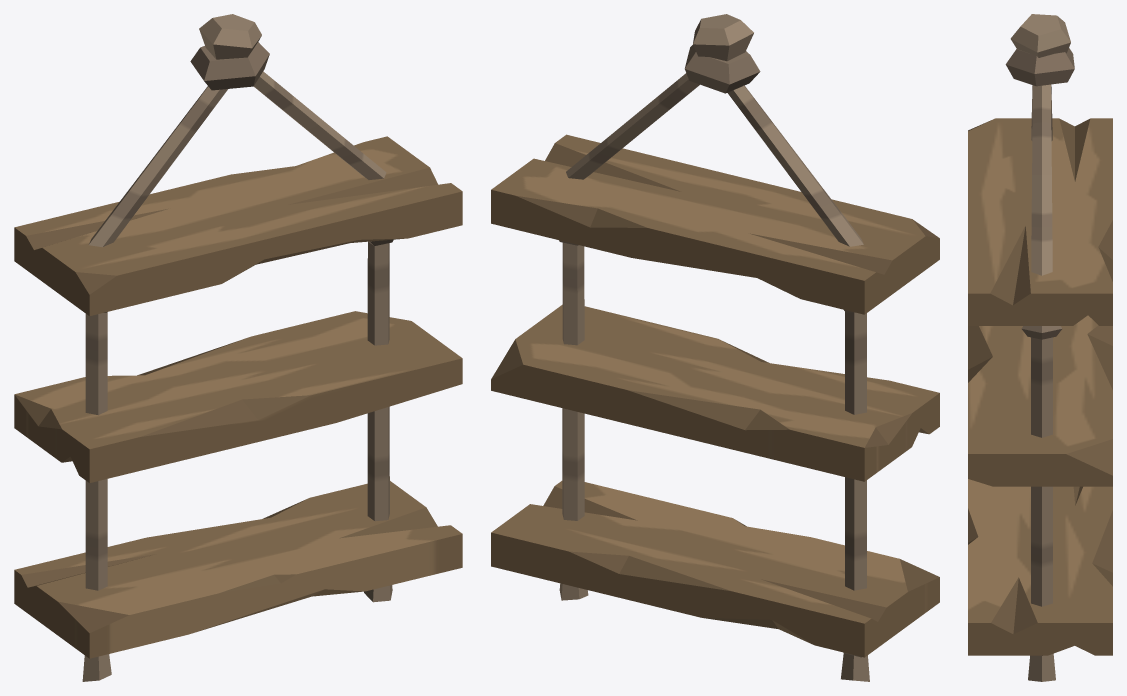
File: SM_Prop_Shelf_02.fbx
3 renders of one model, left to right at view 1: azimuth 30°, elevation 25°; view 2: azimuth 150°, elevation 25°; view 3: azimuth 270°, elevation 25°, orthographic. The views are drawn at different scales.
Parts seen in each view (by area): view 1: SM_Prop_Shelf_02; view 2: SM_Prop_Shelf_02; view 3: SM_Prop_Shelf_02.
Boxes of the visible parts, x1,y1,x2,y2 form: SM_Prop_Shelf_02: (14, 14, 462, 681); SM_Prop_Shelf_02: (491, 14, 939, 681); SM_Prop_Shelf_02: (968, 14, 1112, 681).
Bounding box in the file's own units: 103 × 164 × 35.81.
